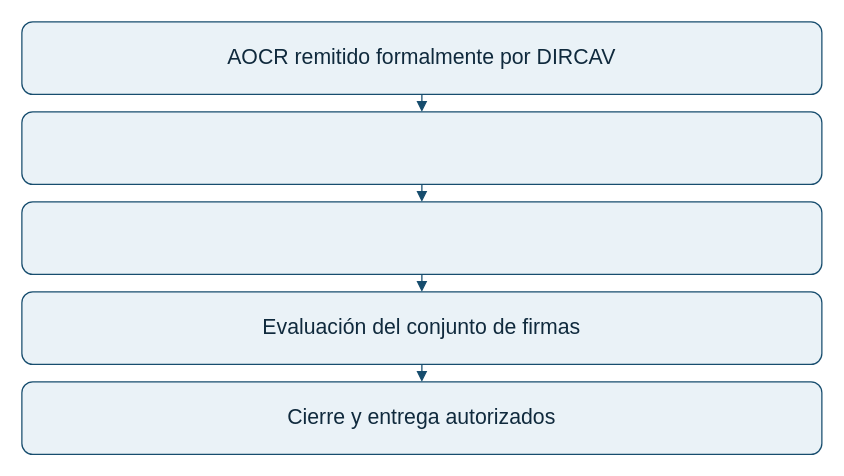
The diagram is 844 pixels wide and 476 high, and some of its shapes have lost their labels. The centre of each missing label's shape, as x and y in pixels:
Devolución motivada o firma AOCR: (421,237)
Revisión de expediente: (421,147)
